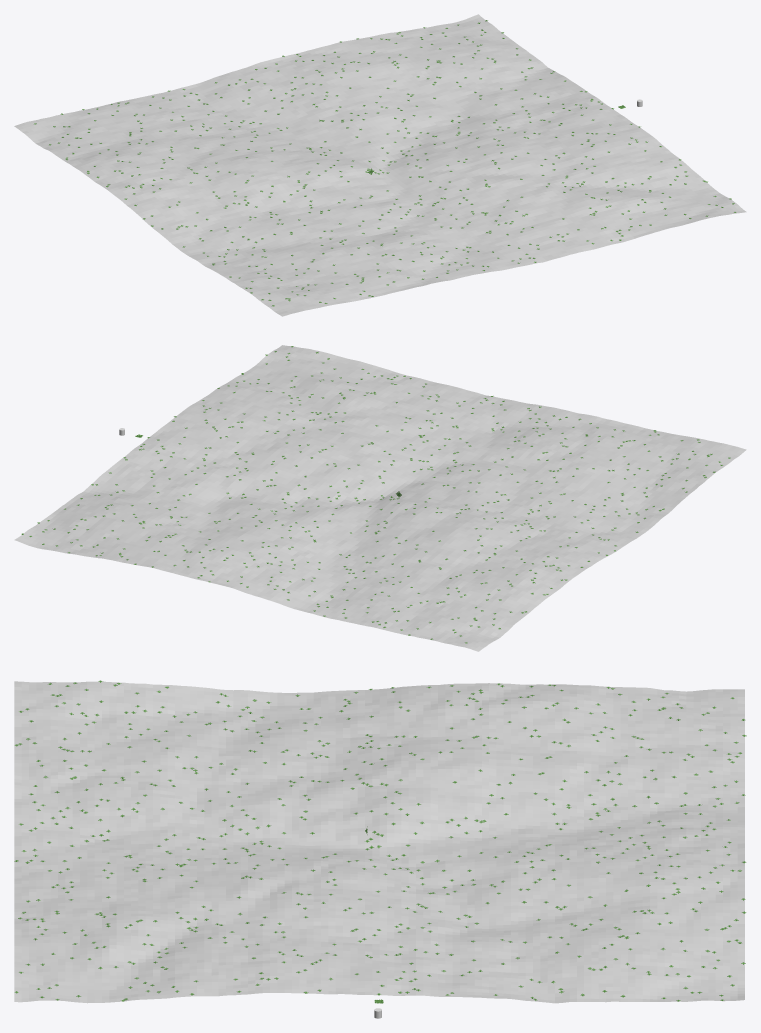
The model's file is grass_backgroundlizard_version.fbx.
3 views of the same model, one above another, from view 1: azimuth 30°, elevation 25°; view 2: azimuth 150°, elevation 25°; view 3: azimuth 270°, elevation 25° (orthographic). The views are drawn at different scales.
Parts seen in each view (by area): view 1: Grid; view 2: Grid; view 3: Grid.
Part boxes in pixels (x1,y1,x2,y2): Grid: (14, 14, 746, 316); Grid: (14, 345, 746, 651); Grid: (14, 681, 744, 1003).
Size of the model in its own units: 19829 by 464 by 18705.
2 materials, 1 textured.
